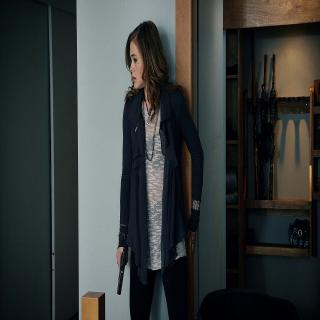gun: (114, 245, 129, 295)
